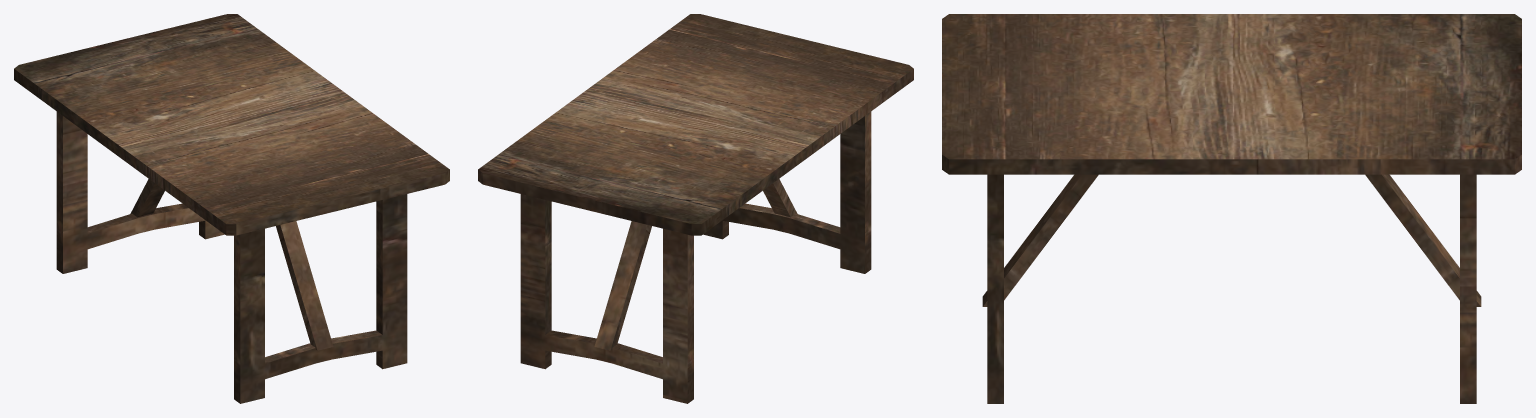
File: old_table_1.fbx
The picture shows the model from 3 angles, left to right: view 1: azimuth 30°, elevation 25°; view 2: azimuth 150°, elevation 25°; view 3: azimuth 270°, elevation 25°; orthographic projection. The views are drawn at different scales.
Visible parts, largest first — view 1: Old Table; view 2: Old Table; view 3: Old Table.
Boxes of the visible parts, bbox=[...] form: Old Table: bbox=[14, 14, 449, 403]; Old Table: bbox=[478, 14, 913, 403]; Old Table: bbox=[942, 14, 1521, 403].
Bounding box in the file's own units: 1.23 × 2.06 × 1.03.
